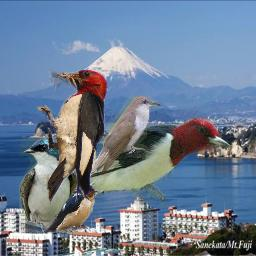Cuckoo: (71, 96, 162, 202)
Swallow: (19, 137, 82, 234), (41, 183, 99, 234)
Woodpecker: (41, 109, 238, 224), (37, 69, 108, 204)
